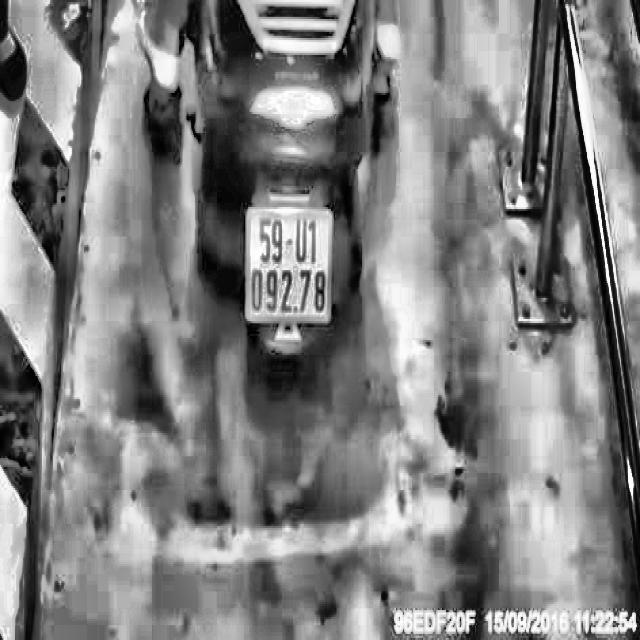plate: (241, 201, 336, 332)
